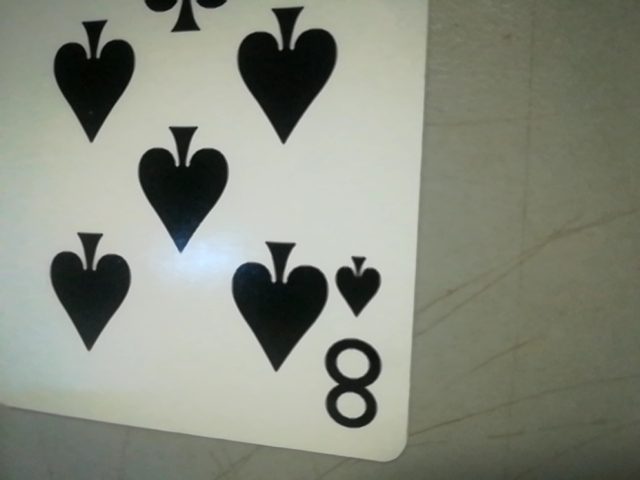ht 8: (315, 239, 402, 448)
